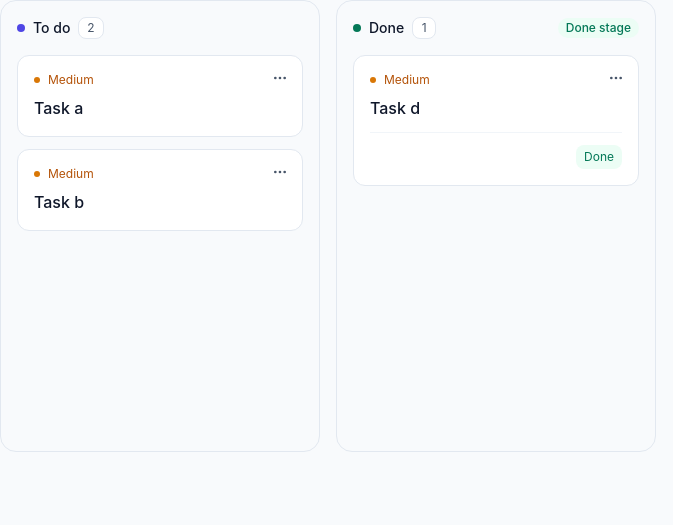
Test case: KanbanBoard moves from the menu › sends overlapping moves one at a time and keeps the message of every failure
The image size is (673, 525).
Click the button named "Move options for Task a" at (280,78), box [266,64,294,92]
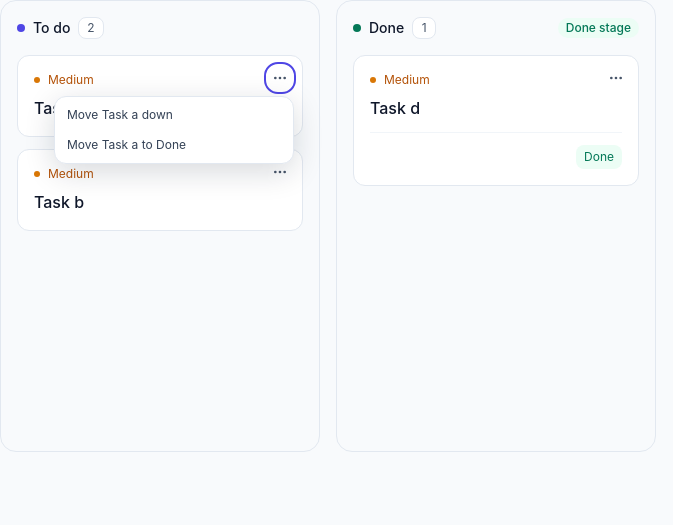
Click the button "Move Task a to Done" at (174,145), box [59,131,289,159]
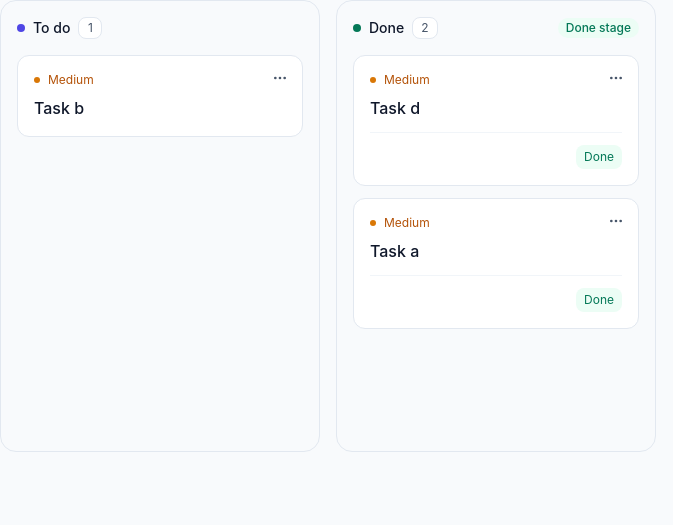
Click the button named "Move options for Task b" at (280,78), box [266,64,294,92]
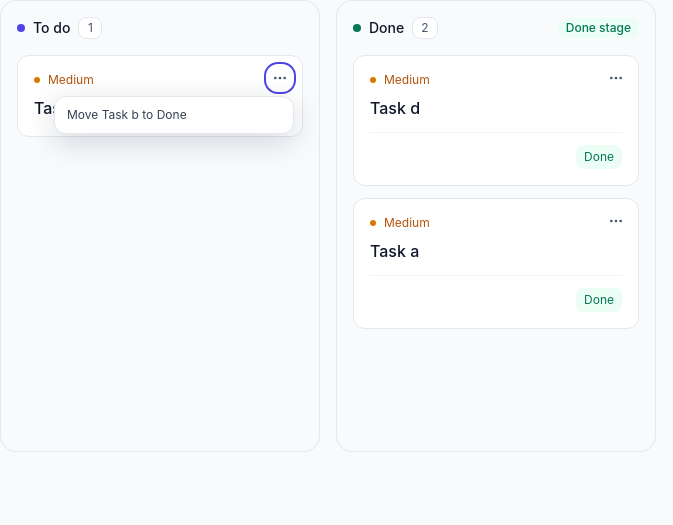
Click the button "Move Task b to Done" at (174,115), box [59,101,289,129]
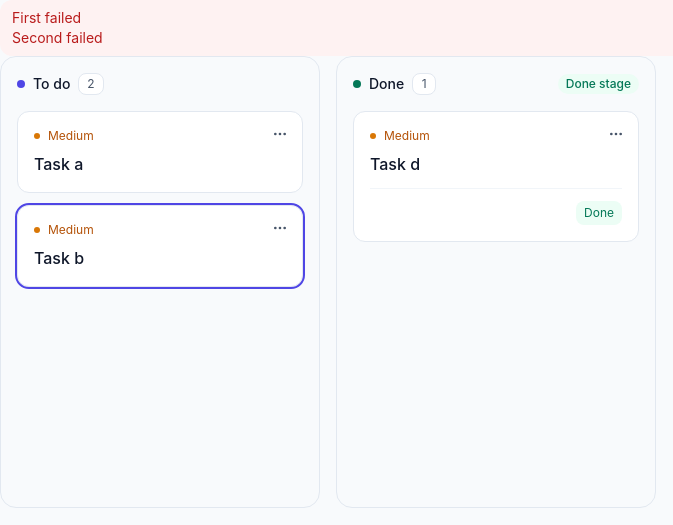
Result: the message named "Board updates" shows "First failed" at [12,9,81,26]
Result: the message named "Board updates" shows "Second failed" at [12,29,103,46]
